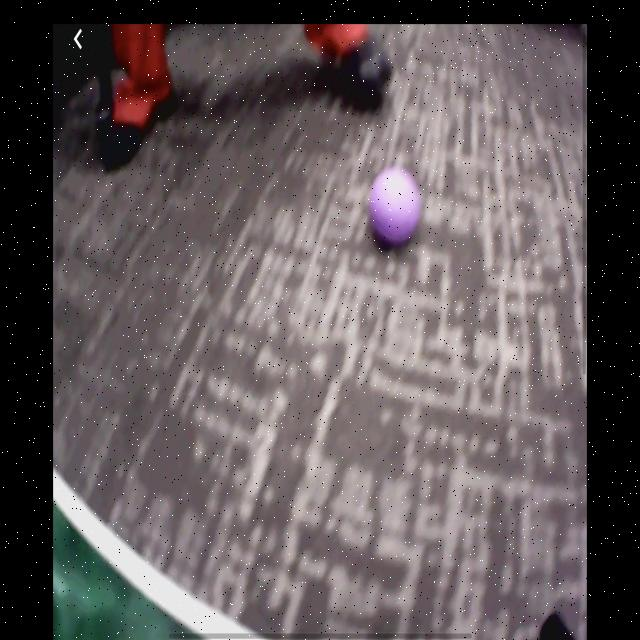ball: (372, 169, 422, 248)
